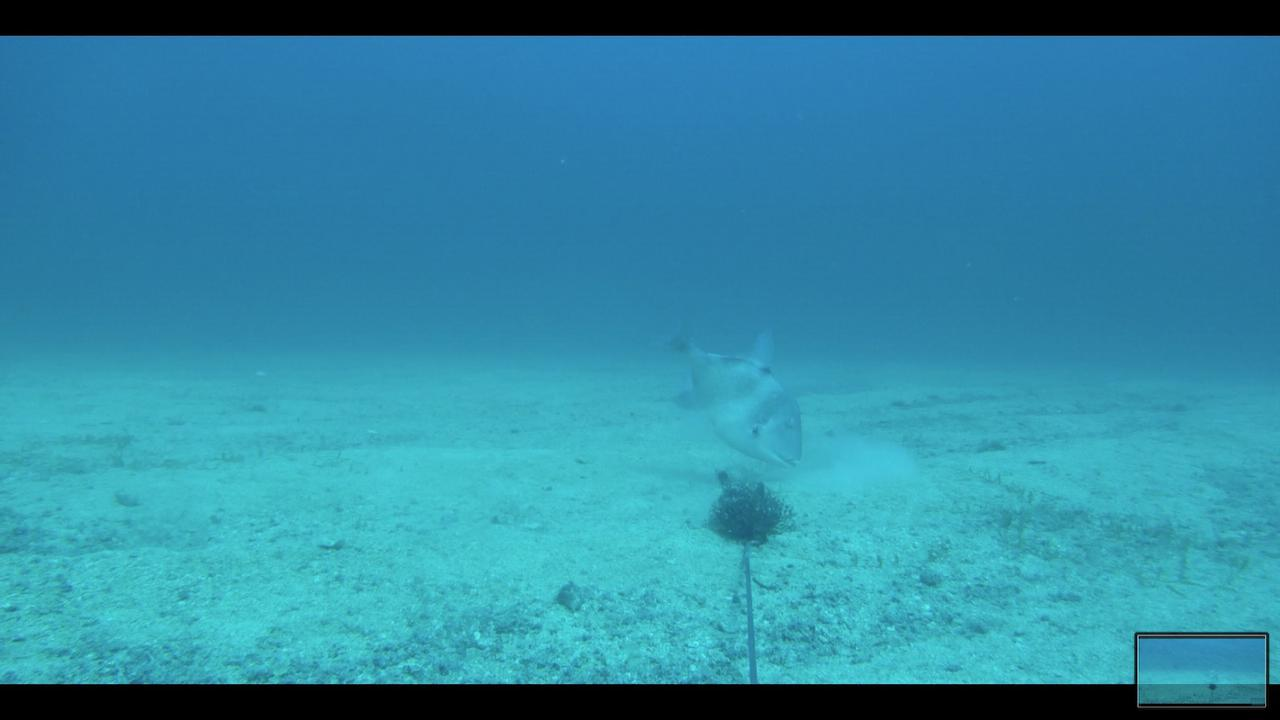balistes: (636, 317, 809, 472)
